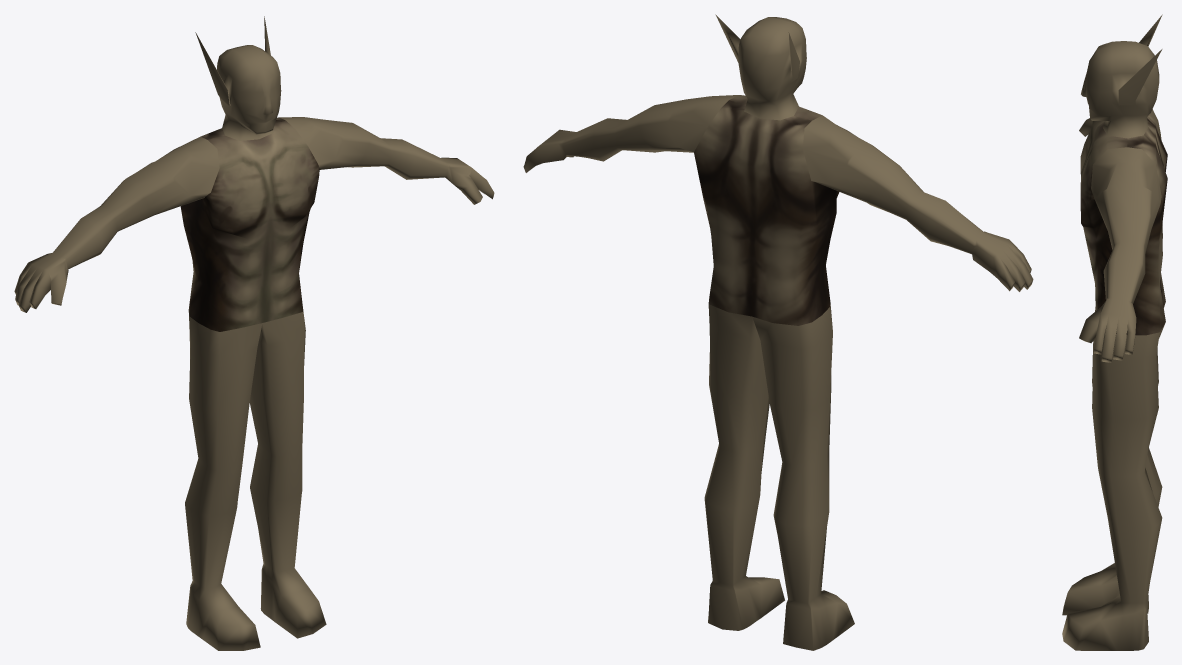
File: place holder improved.fbx
3 views of the same model, side by side, from view 1: azimuth 30°, elevation 25°; view 2: azimuth 150°, elevation 25°; view 3: azimuth 270°, elevation 25° (orthographic). The views are drawn at different scales.
Parts seen in each view (by area): view 1: pCube1; view 2: pCube1; view 3: pCube1.
Part boxes in pixels (x1,y1,x2,y2): pCube1: (14, 16, 494, 650); pCube1: (523, 14, 1033, 650); pCube1: (1062, 14, 1167, 650).
Bounding box in the file's own units: 11.79 × 13.96 × 2.25.
1 material, 1 textured.
